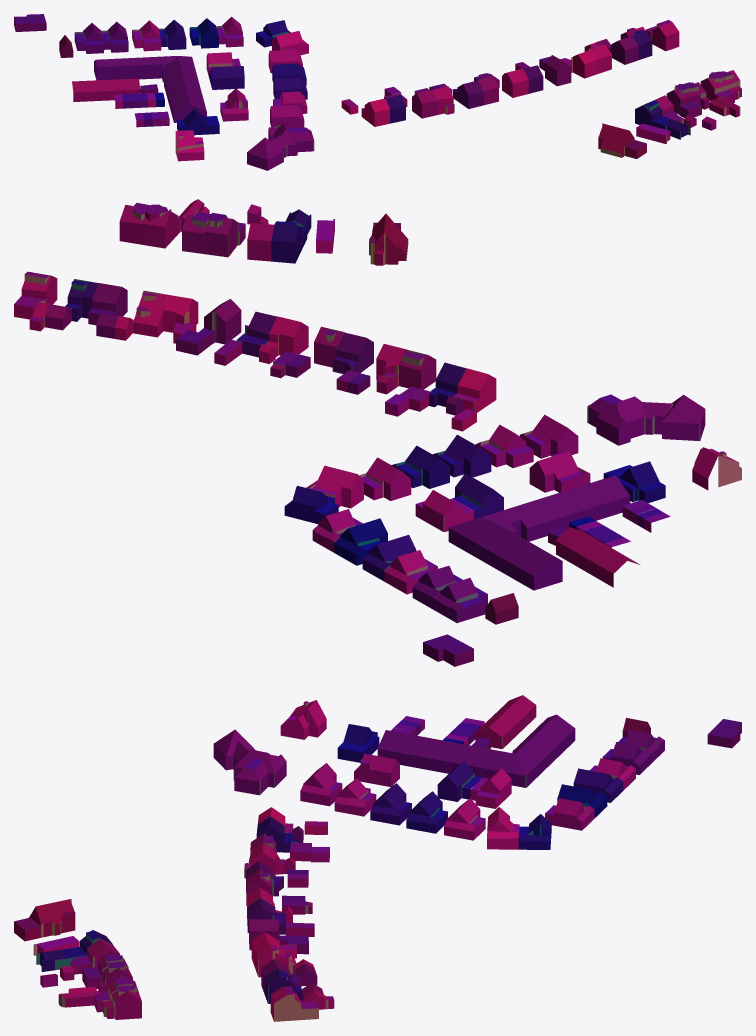
Rendered from buildings_13_6.glb.
3 views of the same model, one above another, from view 1: azimuth 30°, elevation 25°; view 2: azimuth 150°, elevation 25°; view 3: azimuth 270°, elevation 25° (orthographic). The views are drawn at different scales.
Visible parts, largest first — view 1: buildings_13_6; view 2: buildings_13_6; view 3: buildings_13_6.
Boxes of the visible parts, box(x1,y1,x2,y2) form: buildings_13_6: box(14, 14, 741, 170); buildings_13_6: box(14, 199, 741, 666); buildings_13_6: box(14, 695, 741, 1021).
Size of the model in its own units: 214 by 10.28 by 213.
